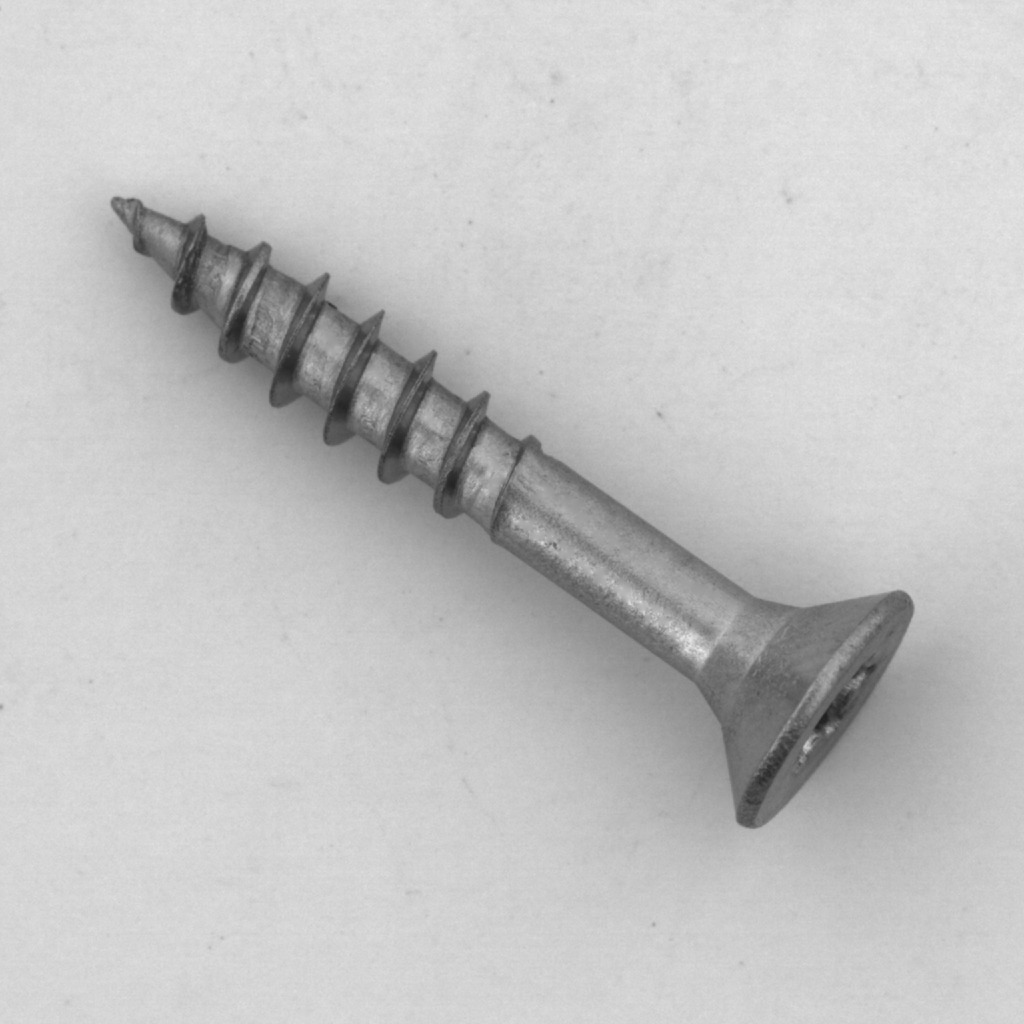good: (103, 175, 924, 845)
